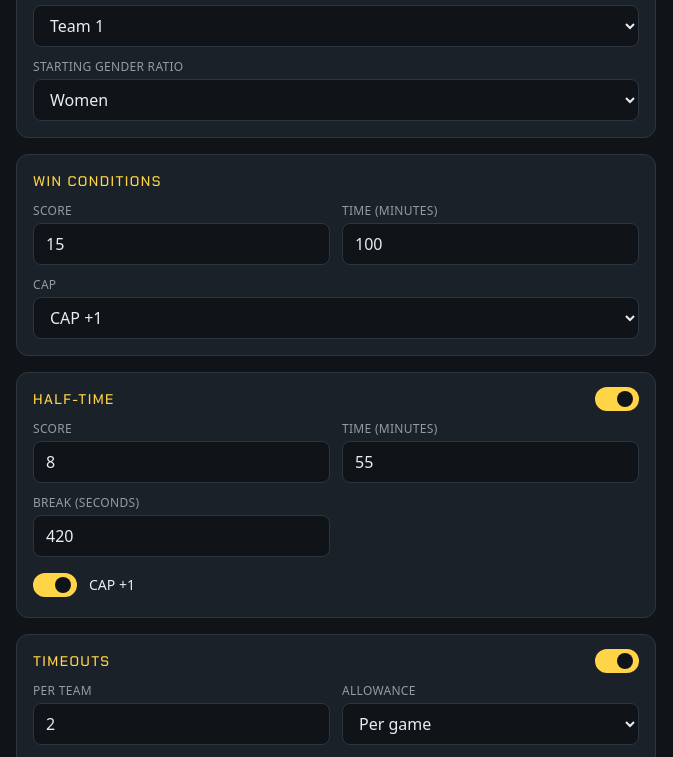
Test case: the Half-time section toggle › folds the section down to its heading when switched off, and back
(page scrolled)
Click the checkbox named "Play a half-time": [617, 399] box [595, 383, 639, 415]
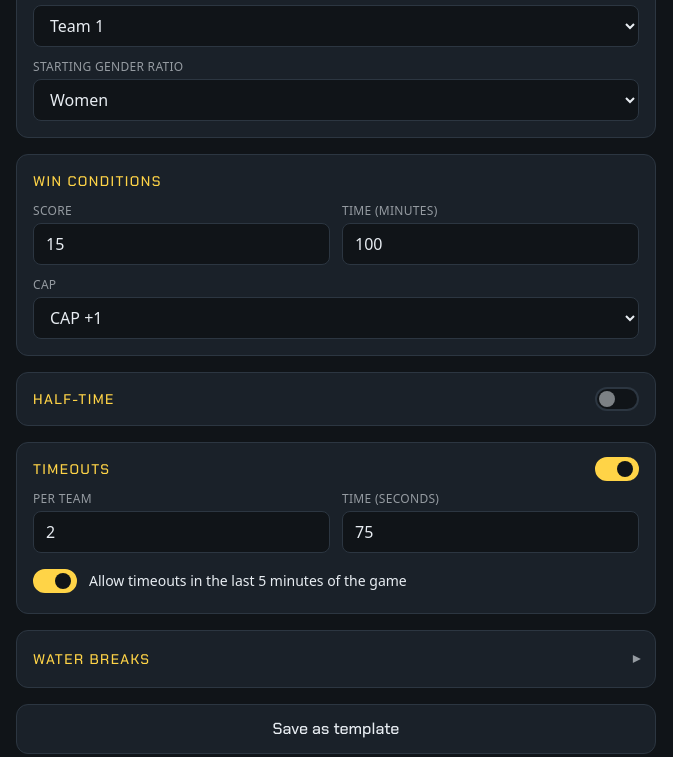
Check: the checkbox named "Play a half-time" is not checked
Check: the text "break (seconds)" is gone
Click the checkbox in the row of "Half-time": [617, 399] box [595, 383, 639, 415]
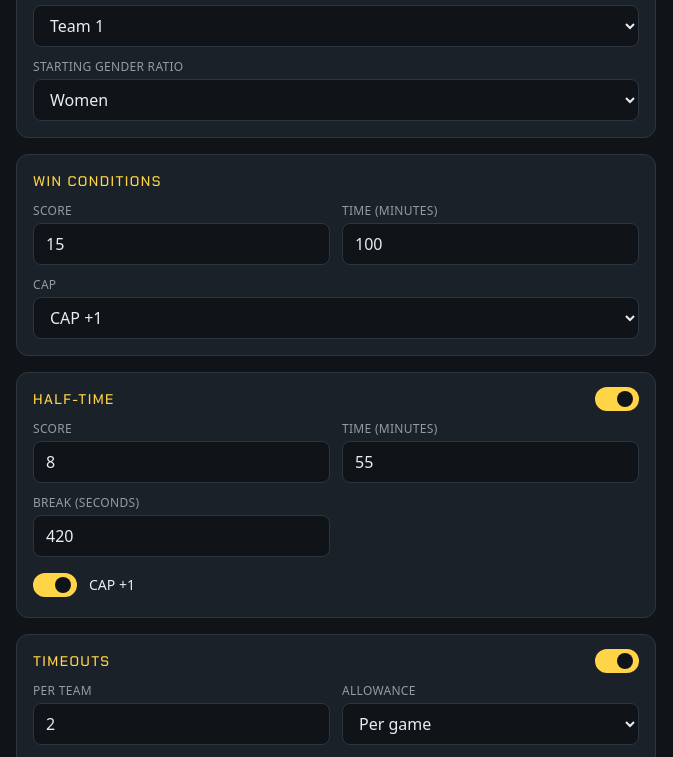
Check: the text "break (seconds)" is shown, box [33, 494, 139, 511]
